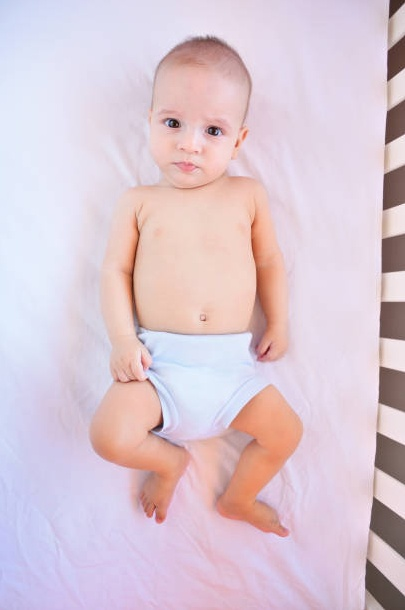baby: (90, 37, 301, 535)
crib: (0, 0, 388, 609)
